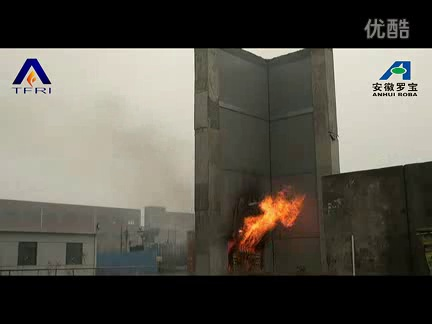fire: (232, 185, 307, 260)
